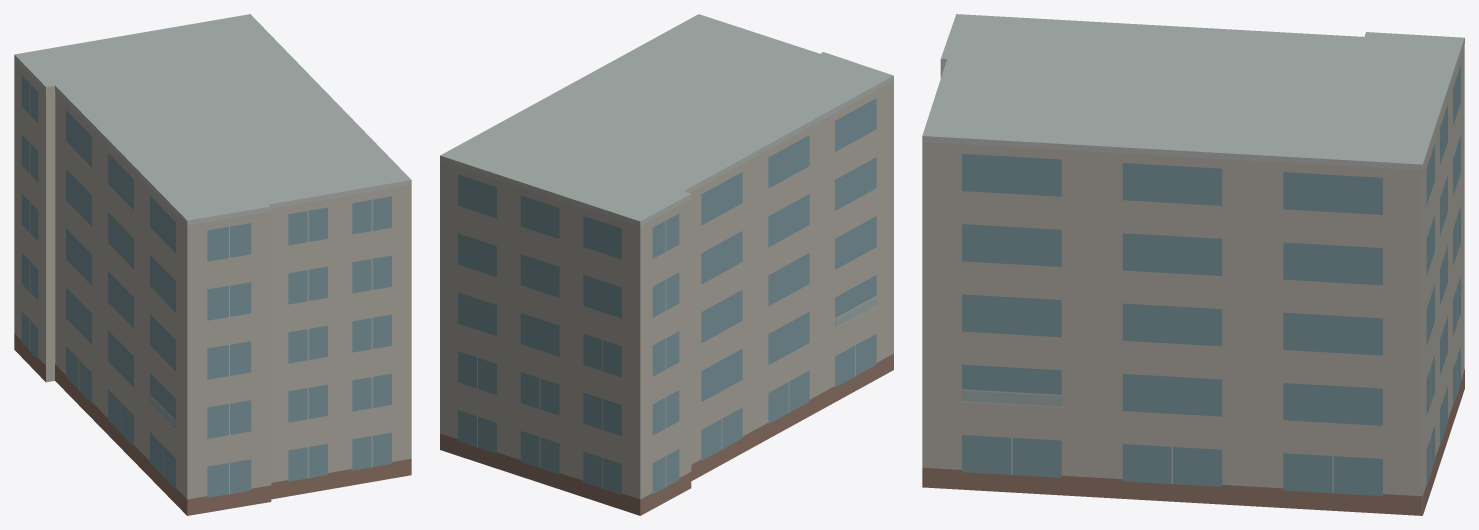
File: survey-upis-32944055.glb
The picture shows the model from 3 angles, left to right: view 1: azimuth 30°, elevation 25°; view 2: azimuth 150°, elevation 25°; view 3: azimuth 270°, elevation 25°; orthographic projection. The views are drawn at different scales.
Visible parts, largest first — view 1: survey-upis-32944055.tmp; view 2: survey-upis-32944055.tmp; view 3: survey-upis-32944055.tmp.
Boxes of the visible parts, x1,y1,x2,y2 form: survey-upis-32944055.tmp: (14,14,411,515); survey-upis-32944055.tmp: (440,14,893,515); survey-upis-32944055.tmp: (922,14,1464,515).
Bounding box in the file's own units: 13.24 × 14.4 × 20.16.
